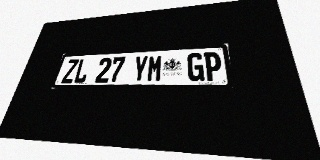2: (95, 57, 113, 83)
7: (108, 57, 126, 83)
G: (187, 52, 204, 81)
L: (73, 58, 91, 83)
M: (146, 55, 163, 82)
P: (204, 52, 223, 81)
Y: (131, 55, 149, 82)
Z: (61, 59, 79, 83)
